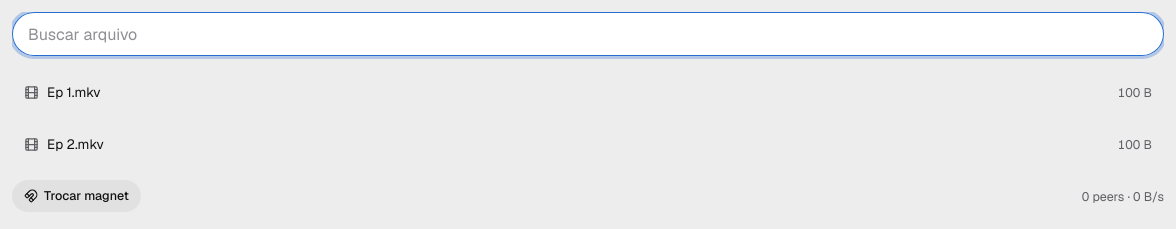
Scenario: TorrentPicker playlist › offers a fixed way back to the magnet field, prefilled with the current link
The width and height of the screenshot is (1176, 229).
Expected: the button "Ep 1.mkv 100 B" is shown, [12,68,1164,116]
Click the button "Trocar magnet".
click(76, 196)  # box [12,180,141,212]
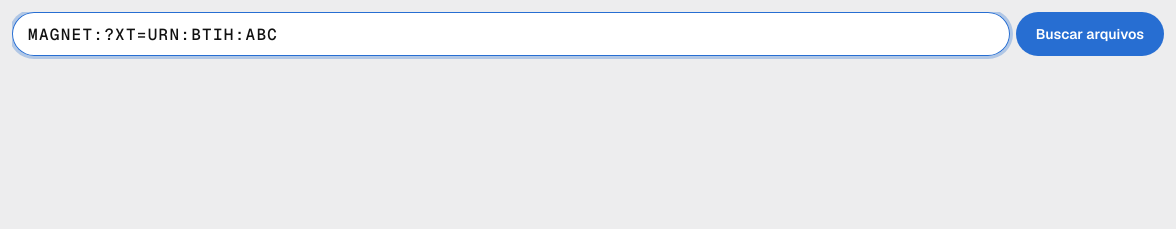
Result: the field named "magnet" holds "magnet:?xt=urn:btih:abc" at [12,12,1010,56]
Result: the button "Trocar magnet" is gone
